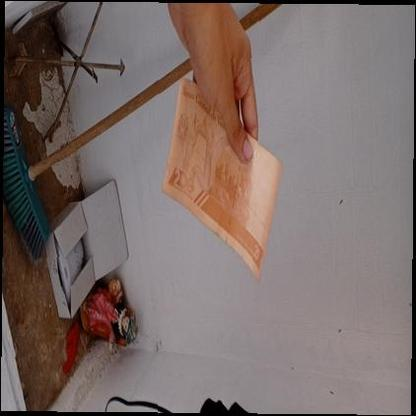twenty-back-vef: (161, 76, 283, 283)
